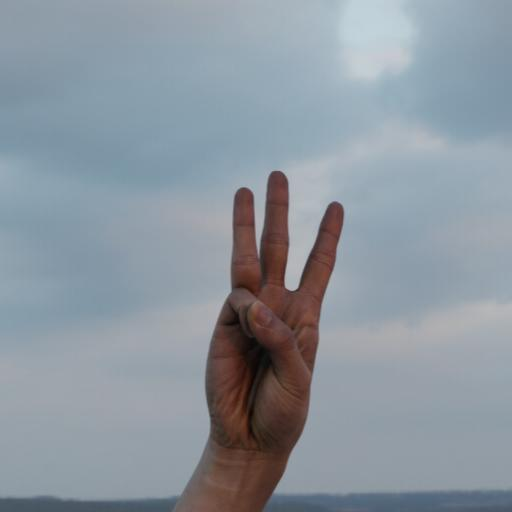W: (200, 167, 348, 435)
